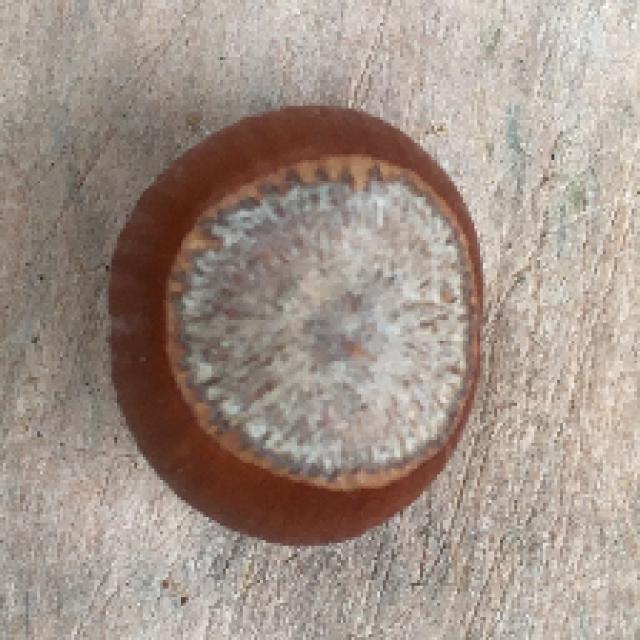QualityHazelnut: (103, 100, 485, 553)
